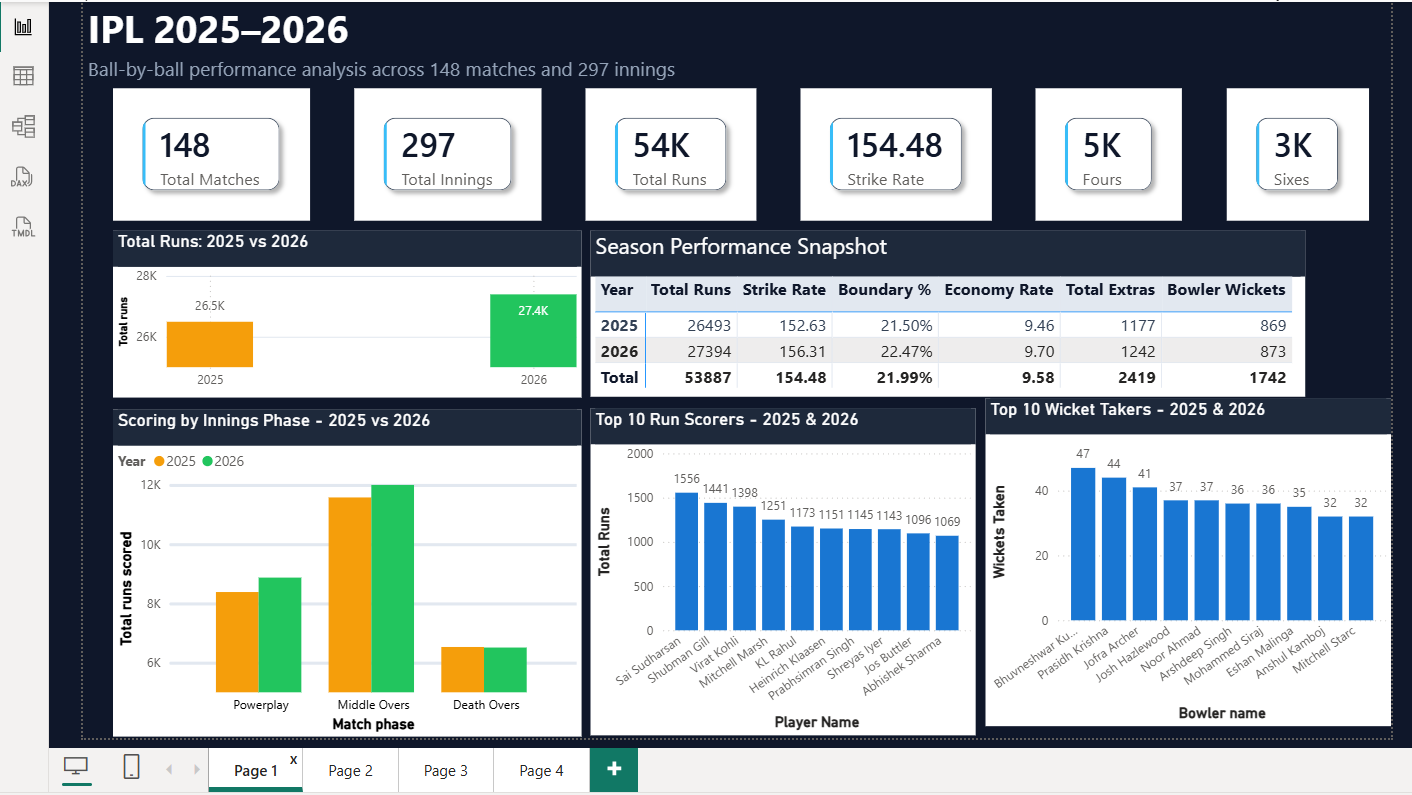

What the dashboard file says about the page in this screenshot:
{"tool":"powerbi","page":{"name":"Page 1","canvas":[1280,720],"ordinal":0},"visuals":[{"type":"cardVisual","fields":{"Data":["KPI Measures.Total Innings"]},"box":[265.2,84.3,183.3,129.6],"z":0},{"type":"cardVisual","fields":{"Data":["KPI Measures.Total Matches"]},"box":[29.6,84.3,192.6,129.6],"z":1000},{"type":"cardVisual","fields":{"Data":["KPI Measures.Total Runs"]},"box":[491.5,84.3,167.6,129.6],"z":2000},{"type":"cardVisual","fields":{"Data":["KPI Measures.Strike Rate"]},"box":[702,84.3,187,129.6],"z":3000},{"type":"cardVisual","fields":{"Data":["KPI Measures.Fours"]},"box":[932,84.3,143.5,129.6],"z":4000},{"type":"cardVisual","fields":{"Data":["KPI Measures.Sixes"]},"box":[1118.5,84.3,138.9,129.6],"z":5000},{"type":"textbox","title":"IPL 2025–2026","box":[0,0,593.3,84.6],"z":6000},{"type":"clusteredColumnChart","title":"Total Runs: 2025 vs 2026","fields":{"Category":["dim_date.Year"],"Y":["KPI Measures.Total Runs"]},"box":[29.8,224,458.7,163.5],"z":7000},{"type":"pivotTable","title":"Season Performance Snapshot","fields":{"Rows":["dim_date.Year"],"Values":["KPI Measures.Total Runs","KPI Measures.Strike Rate","KPI Measures.Boundary %","KPI Measures.Economy Rate","KPI Measures.Total Extras","KPI Measures.Bowler Wickets"]},"box":[496.5,223.8,699.5,162.6],"z":8000},{"type":"clusteredColumnChart","title":"Scoring by Innings Phase - 2025 vs 2026","fields":{"Category":["fact_deliveries.phase_category"],"Series":["dim_date.Year"],"Y":["Sum(fact_deliveries.total_runs)"]},"box":[29.8,398.1,458.7,320.2],"z":9000},{"type":"clusteredColumnChart","title":"Top 10 Run Scorers - 2025 & 2026","fields":{"Category":["dim_batters.player_name"],"Y":["KPI Measures.Total Runs"]},"box":[497,398,377,320],"z":10000},{"type":"clusteredColumnChart","title":"Top 10 Wicket Takers - 2025 & 2026","fields":{"Category":["dim_bowlers.player_name"],"Y":["KPI Measures.Bowler Wickets"]},"box":[882.9,387.6,397.4,330.2],"z":11000}]}

Visuals, with their boxes on the page's 1280x720 design canvas (x1, y1, x2, y2). These are canvas units, not pixel positions in the 1412x795 screenshot, which may show the page scaled, cropped or inside an application window:
cardVisual - KPI Measures.Total Innings: BBox(265, 84, 448, 214)
cardVisual - KPI Measures.Total Matches: BBox(30, 84, 222, 214)
cardVisual - KPI Measures.Total Runs: BBox(492, 84, 659, 214)
cardVisual - KPI Measures.Strike Rate: BBox(702, 84, 889, 214)
cardVisual - KPI Measures.Fours: BBox(932, 84, 1076, 214)
cardVisual - KPI Measures.Sixes: BBox(1118, 84, 1257, 214)
"IPL 2025–2026" textbox: BBox(0, 0, 593, 85)
"Total Runs: 2025 vs 2026" clusteredColumnChart: BBox(30, 224, 488, 388)
"Season Performance Snapshot" pivotTable: BBox(496, 224, 1196, 386)
"Scoring by Innings Phase - 2025 vs 2026" clusteredColumnChart: BBox(30, 398, 488, 718)
"Top 10 Run Scorers - 2025 & 2026" clusteredColumnChart: BBox(497, 398, 874, 718)
"Top 10 Wicket Takers - 2025 & 2026" clusteredColumnChart: BBox(883, 388, 1280, 718)
